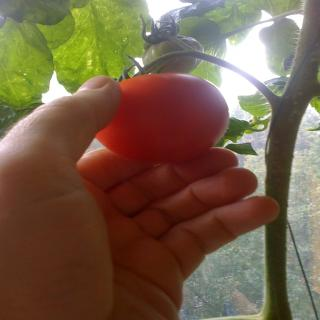tomato: (92, 52, 233, 164), (141, 12, 204, 76)
